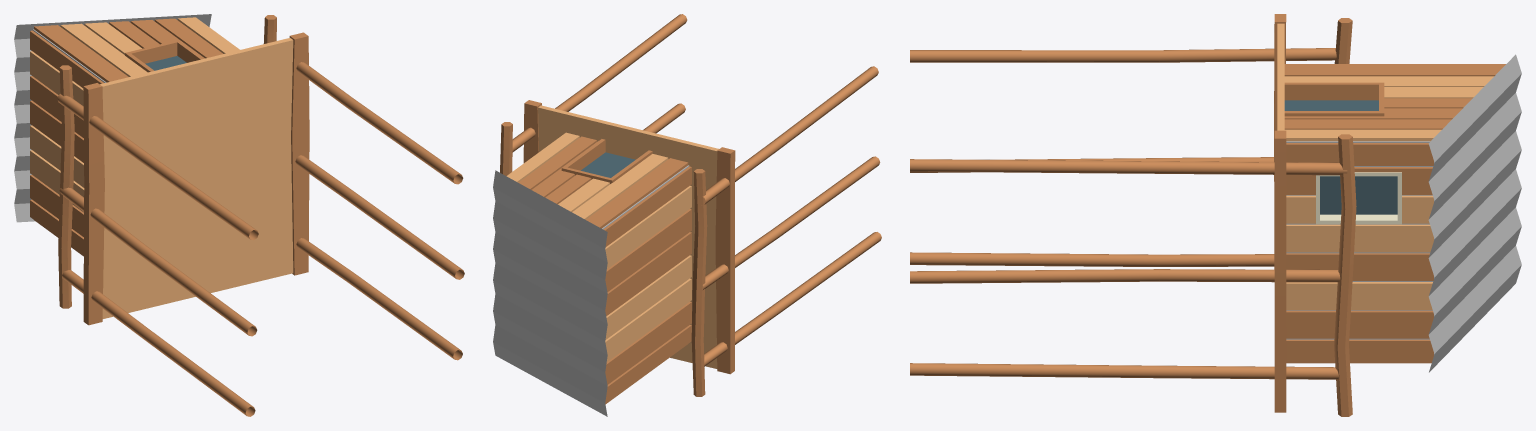
Rendered from Hut_desolate.fbx.
3 views of the same model, side by side, from view 1: azimuth 30°, elevation 25°; view 2: azimuth 150°, elevation 25°; view 3: azimuth 270°, elevation 25° (orthographic). The views are drawn at different scales.
Parts seen in each view (by area): view 1: Circle.008; view 2: Circle.008; view 3: Circle.008.
Part boxes in pixels (x1,y1,x2,y2): Circle.008: [14, 14, 464, 416]; Circle.008: [493, 14, 881, 416]; Circle.008: [910, 14, 1521, 416].
Bounding box in the file's own units: 242 × 252 × 500.
